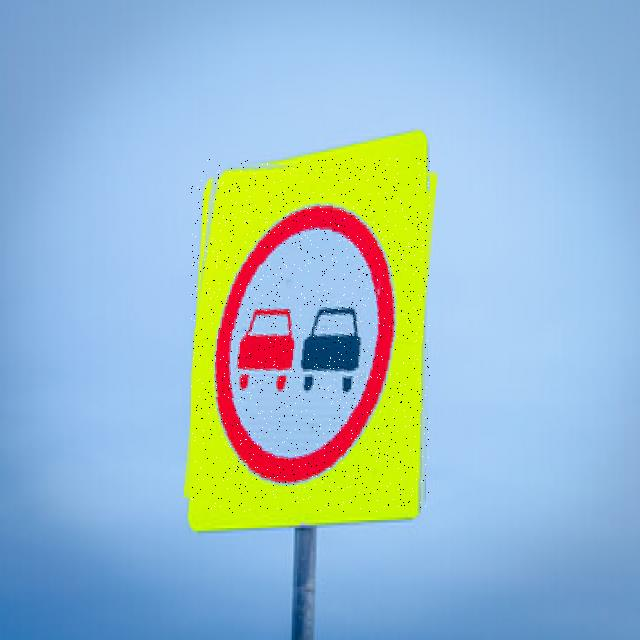no overtaking: (191, 158, 430, 513)
